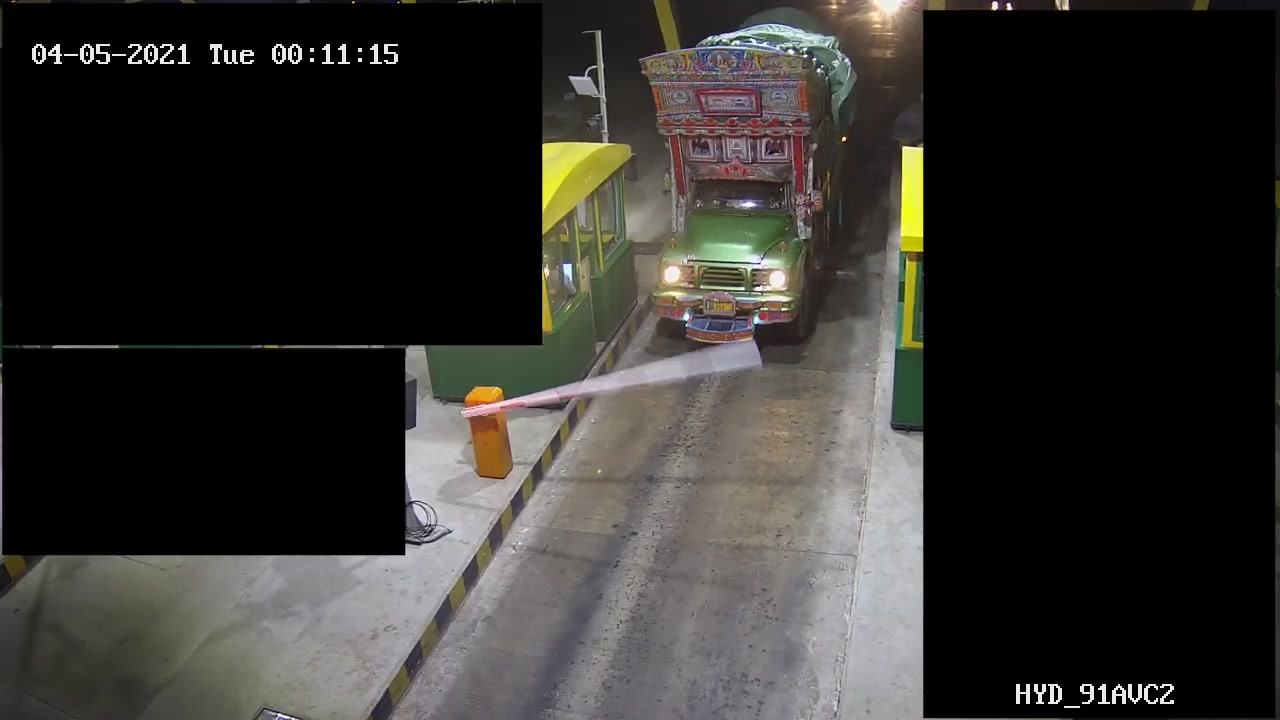F5: (646, 1, 851, 349)
